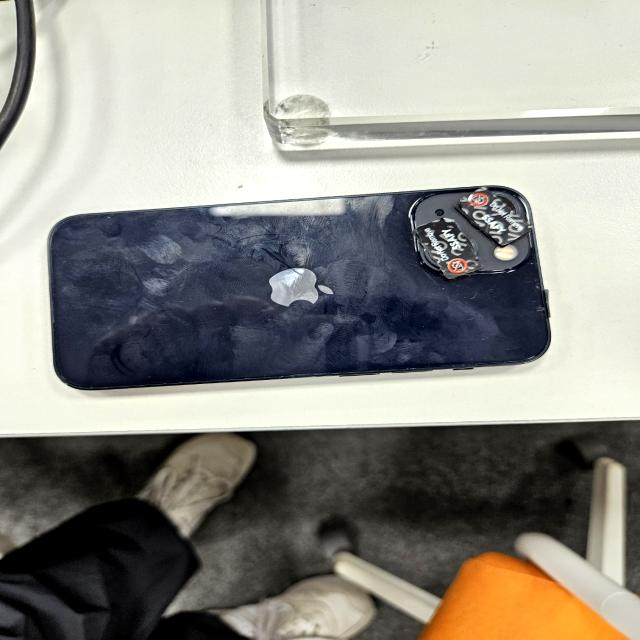phone: (49, 182, 554, 389)
removed_sticker: (459, 186, 528, 245), (418, 219, 482, 280)
